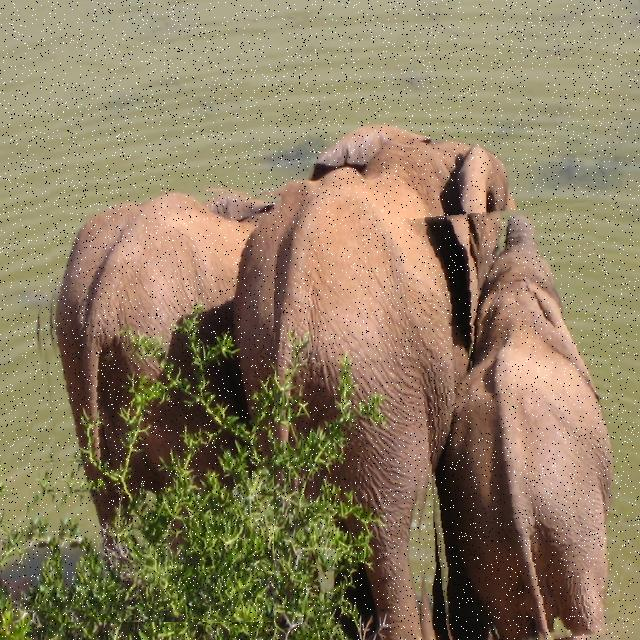elephant: (27, 183, 274, 622), (409, 206, 620, 640)
